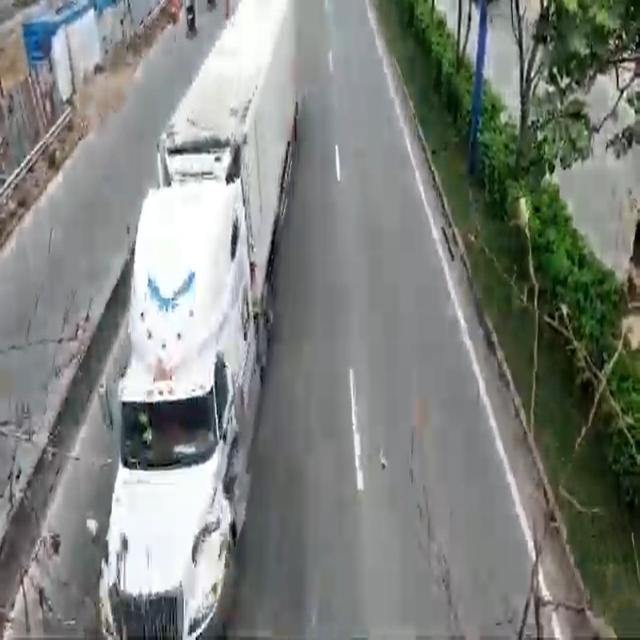truck: (109, 10, 290, 640)
